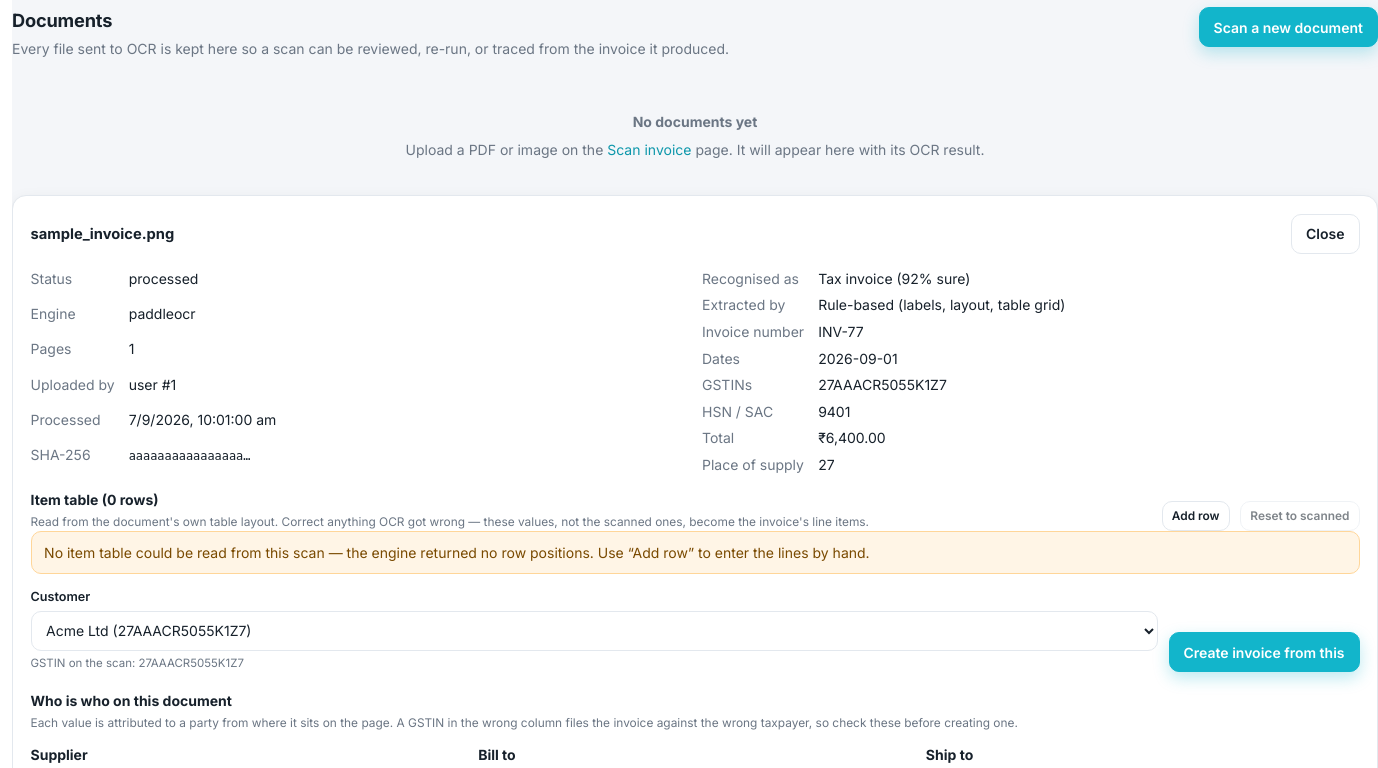
Test: documents detail panel › offers a hand-entered table when OCR found no rows at all
Check: the text "No item table could be read" is shown, box [44,544,594,561]
Click the button "Add row": (1196, 516) [1162,501,1230,531]
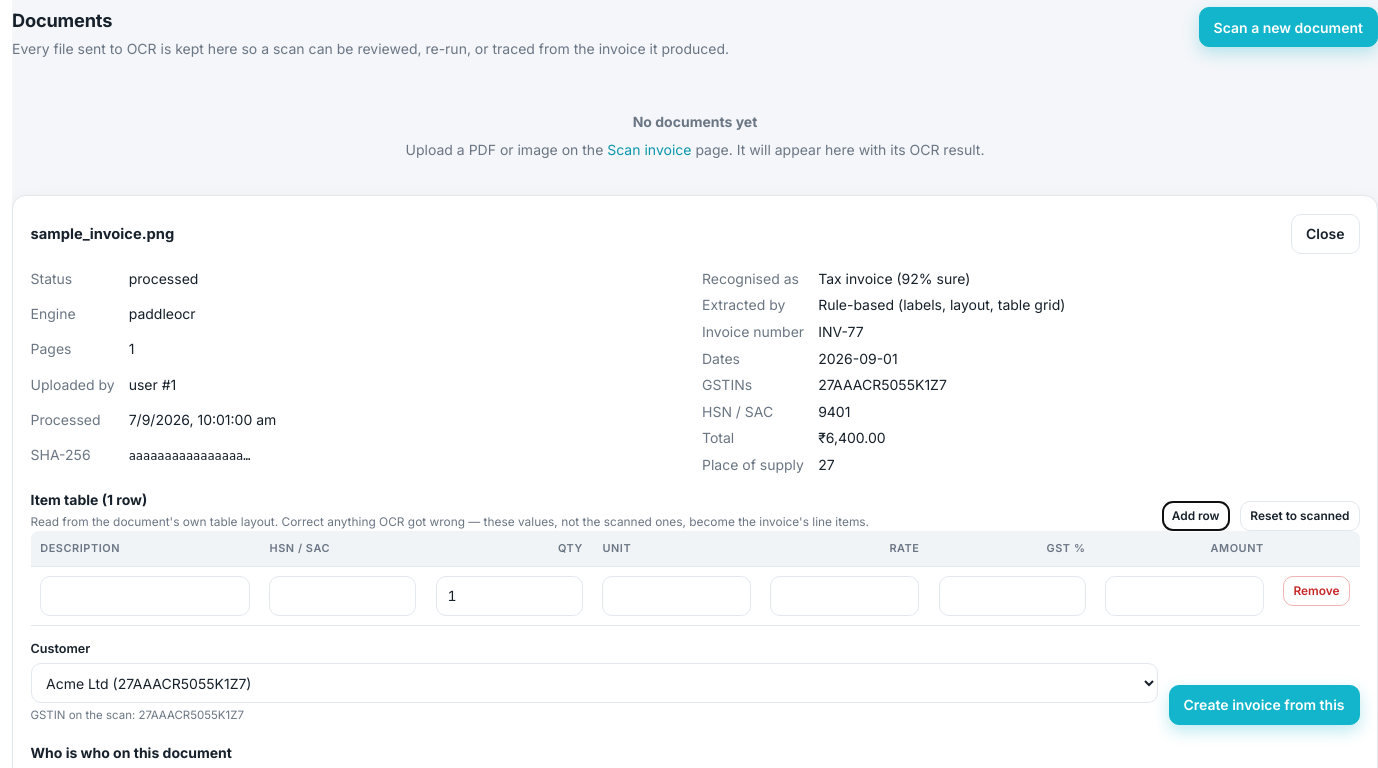
Check: the number of rows is 2, box [30,531,1360,566]; [30,566,1360,626]
